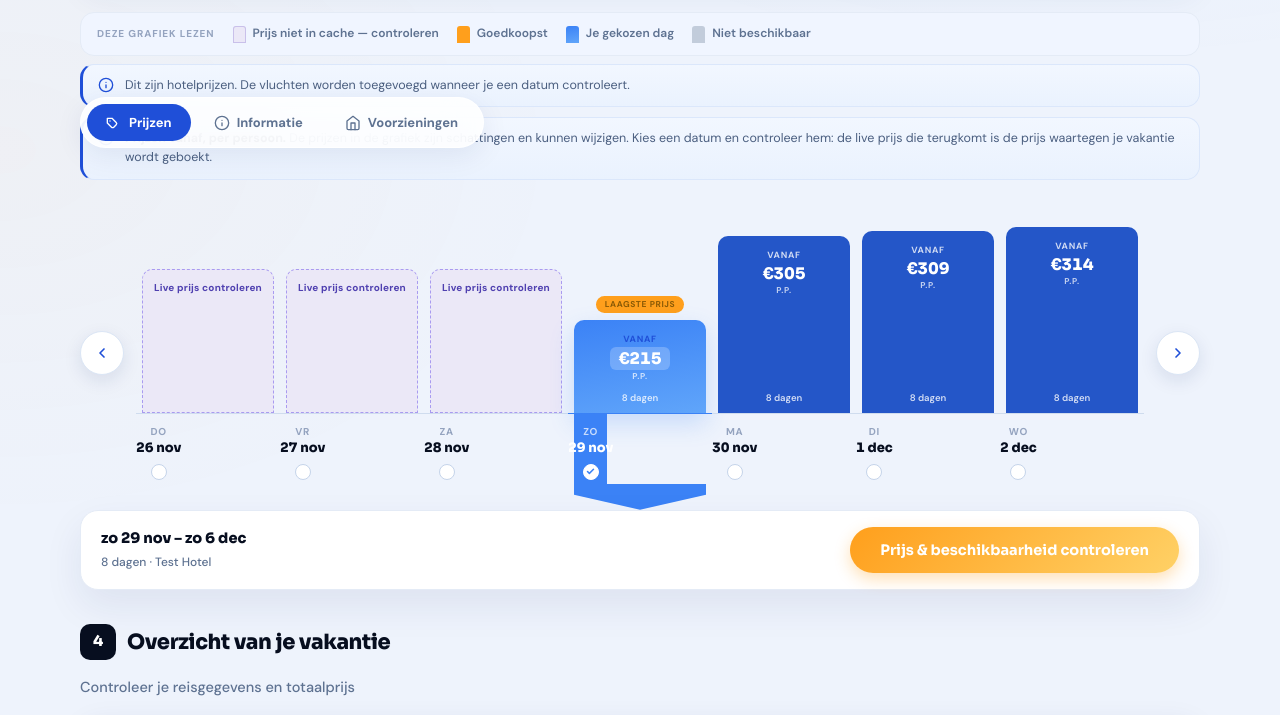
the live price came back LOWER › keeps the estimate struck through and quotes the live total
(page scrolled)
Click the button "Laagste prijs vanaf €215 p.p. 8 dagen zo 29 nov" at x=640, y=356, box x1=568 y1=202 x2=712 y2=510
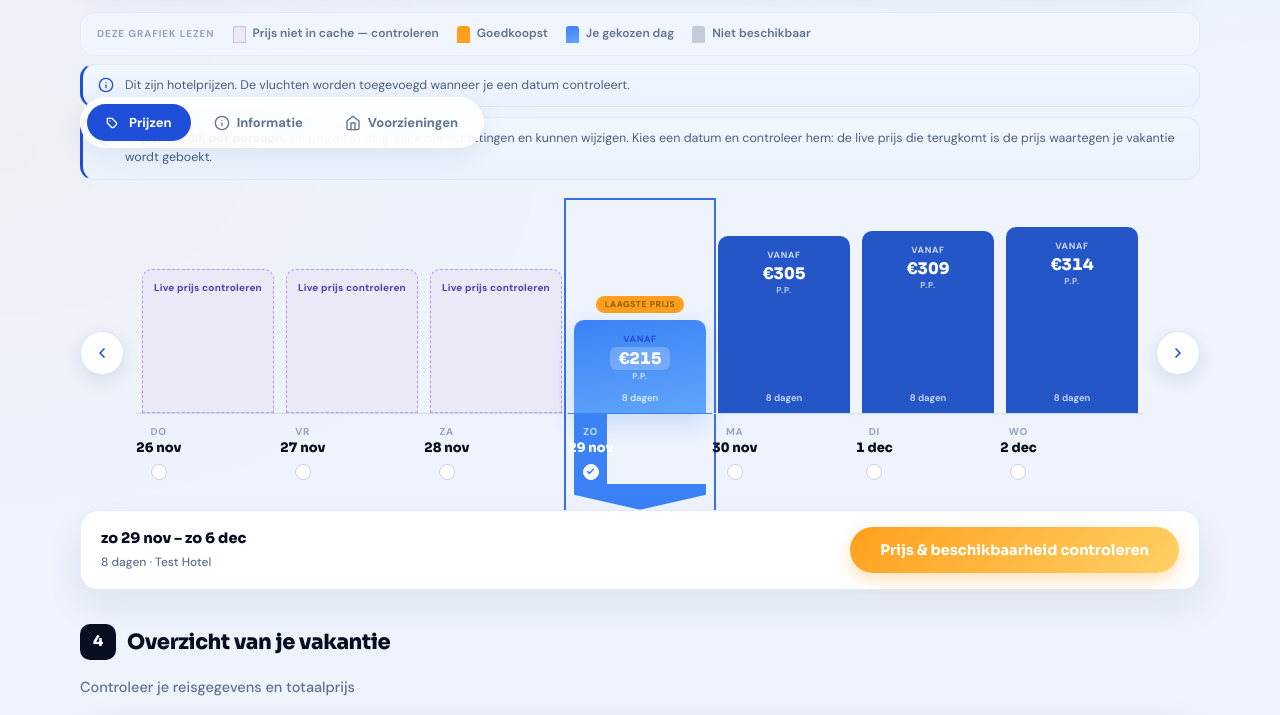
Click the button "Prijs & beschikbaarheid controleren" at x=1015, y=550, box x1=850 y1=527 x2=1179 y2=573
(page scrolled)
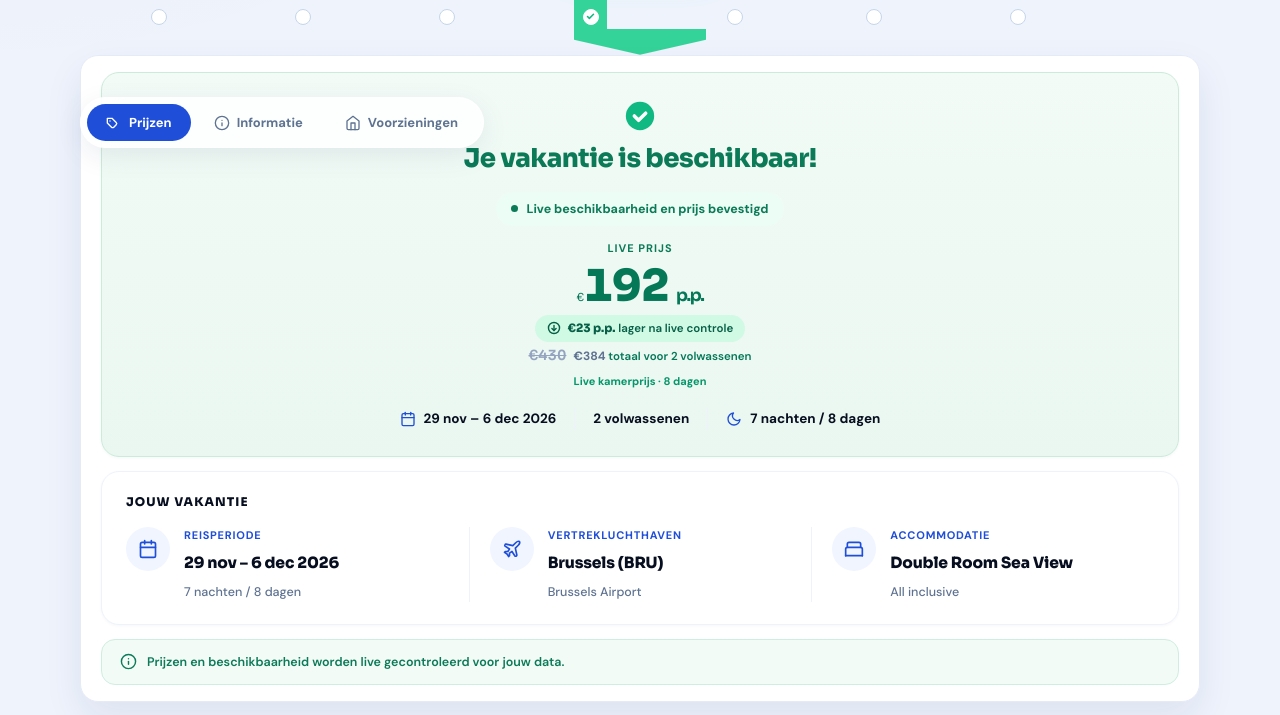
Expected: the element with class "avail-price-val" shows "€", x1=576 y1=290 x2=583 y2=304
Expected: the element with class "avail-price-val" reads "€ 192 p.p.", x1=576 y1=264 x2=703 y2=308
Expected: the element with class "av-price-total" shows "€384", x1=528 y1=344 x2=751 y2=367
